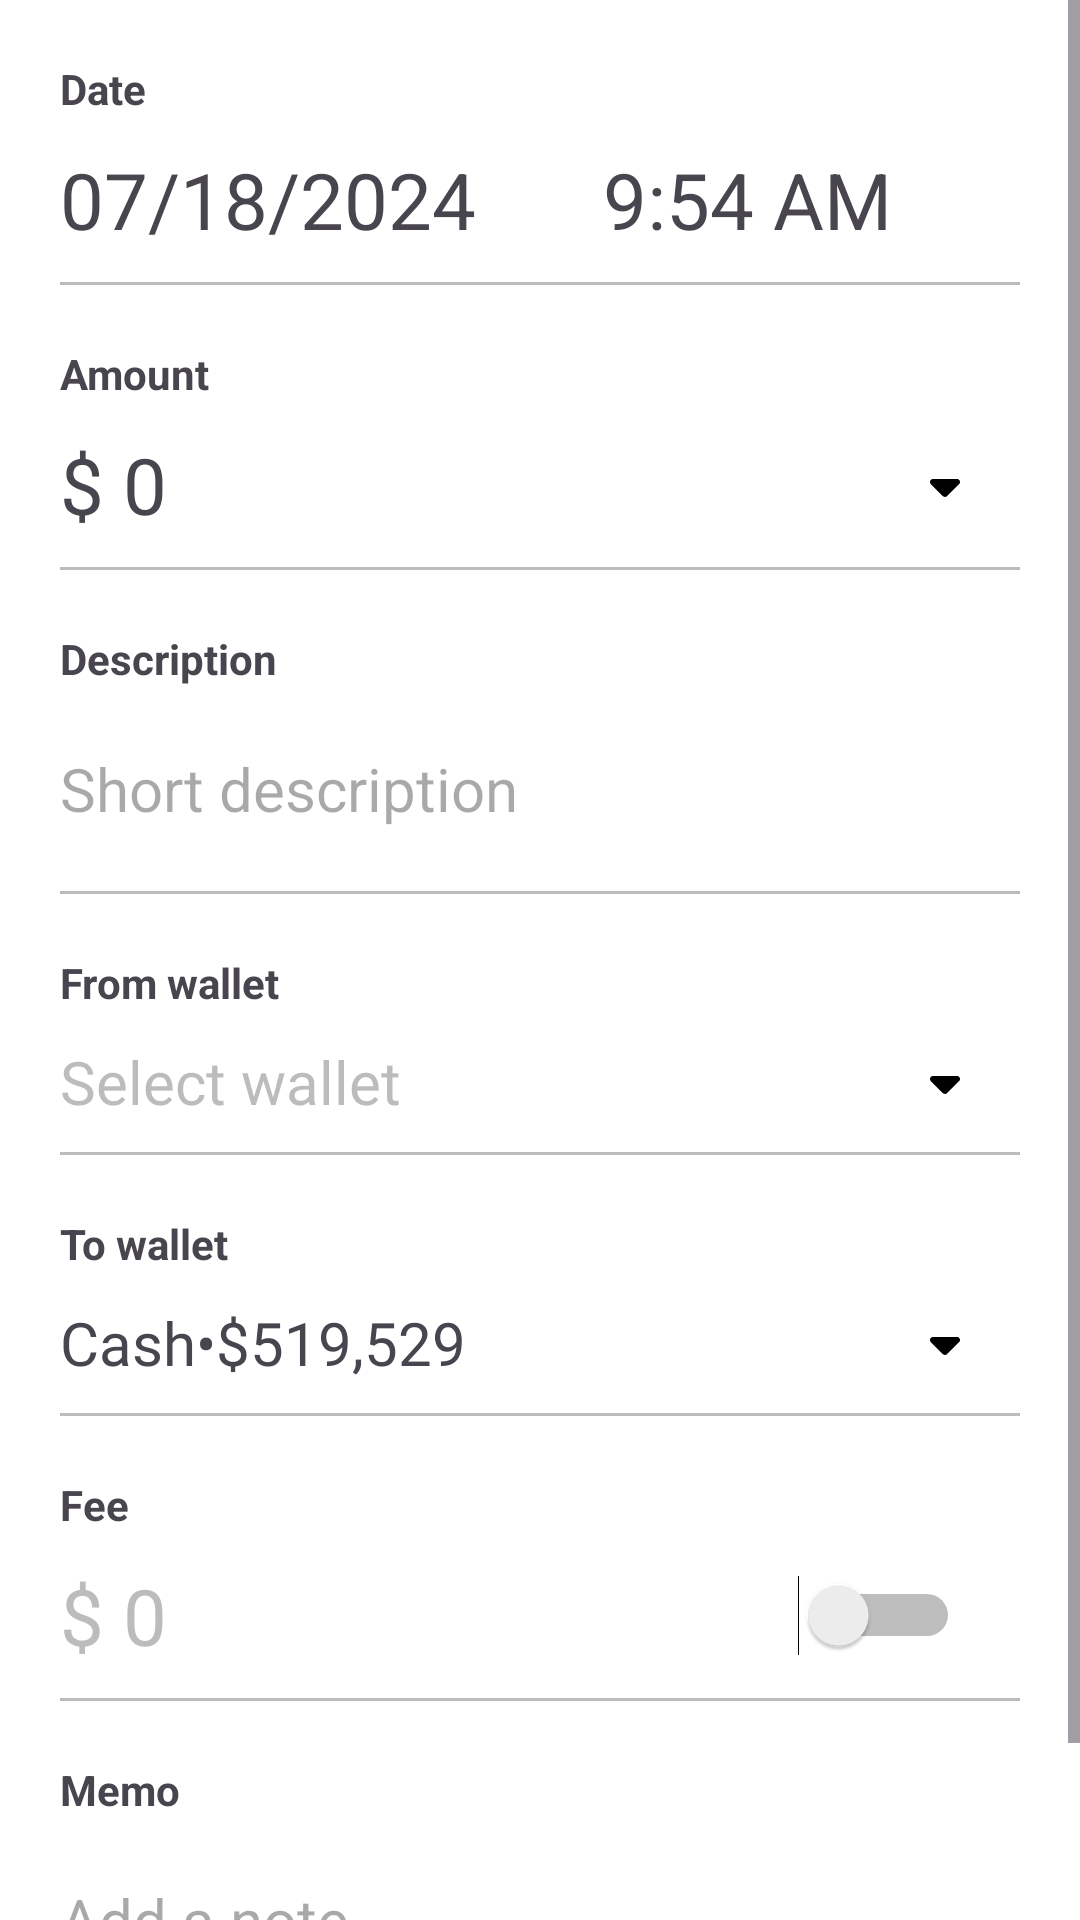

Named icons in this screenshot (1080*1920) and their centers, point (x, y):
caret down: point (945, 488), point (945, 1085), point (945, 1346)
